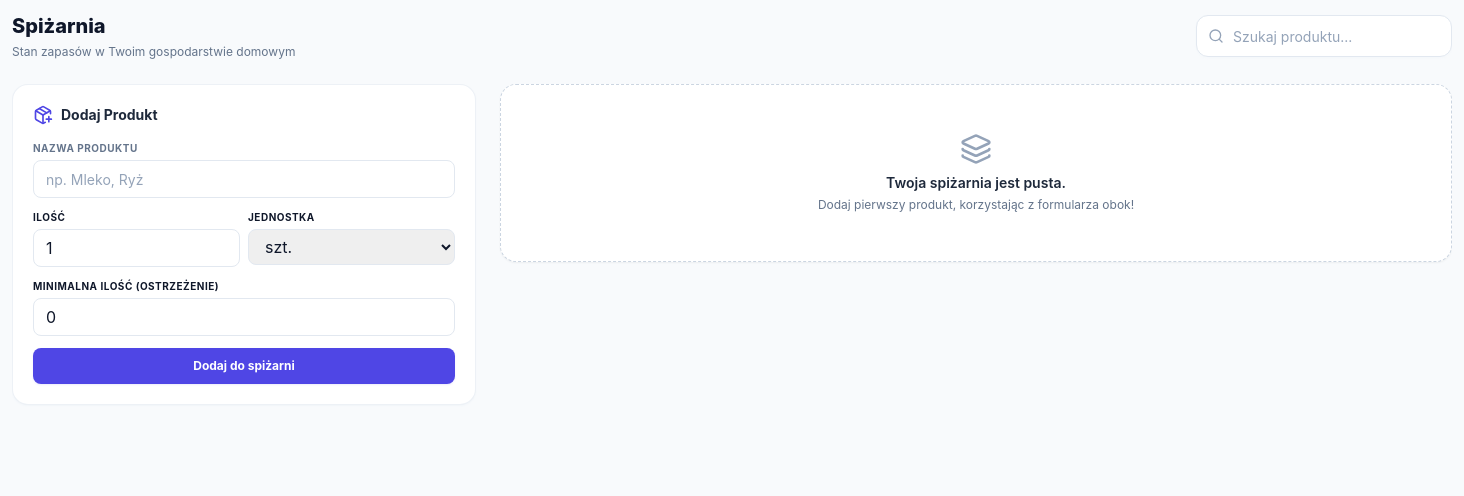
Test: PantryDashboard › handles addition error robustly inside try-catch-finally resetting loading
Type "Chleb" into the field with placeholder "np. Mleko, Ryż" at (244, 179), box [33,160,455,198]
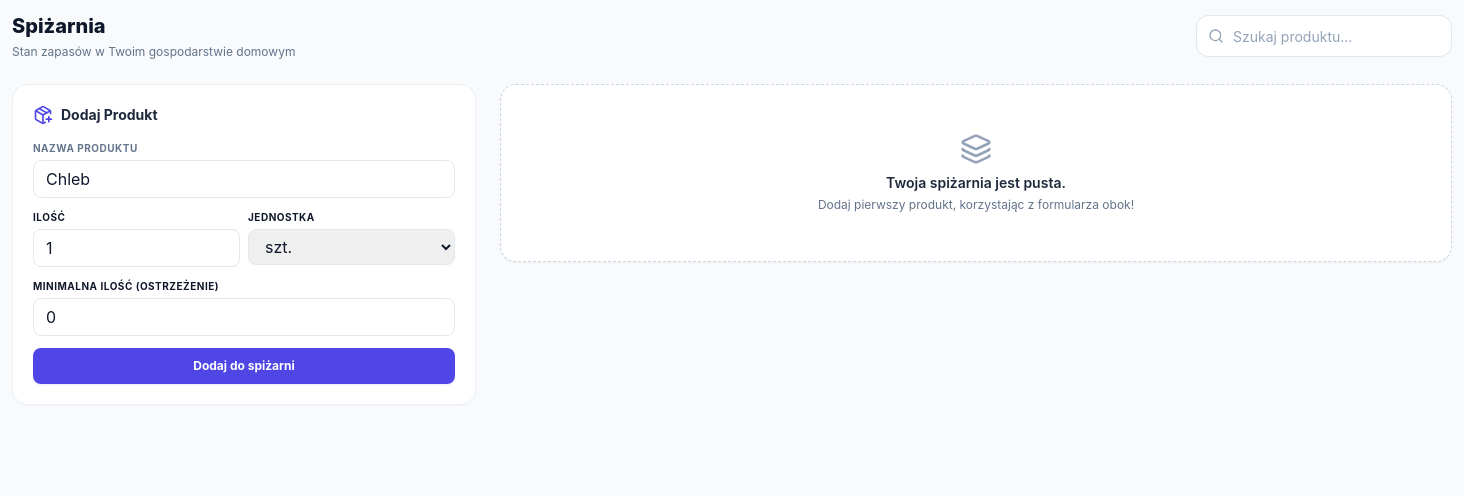
Click the button "Dodaj do spiżarni" at (244, 366), box [33,348,455,384]
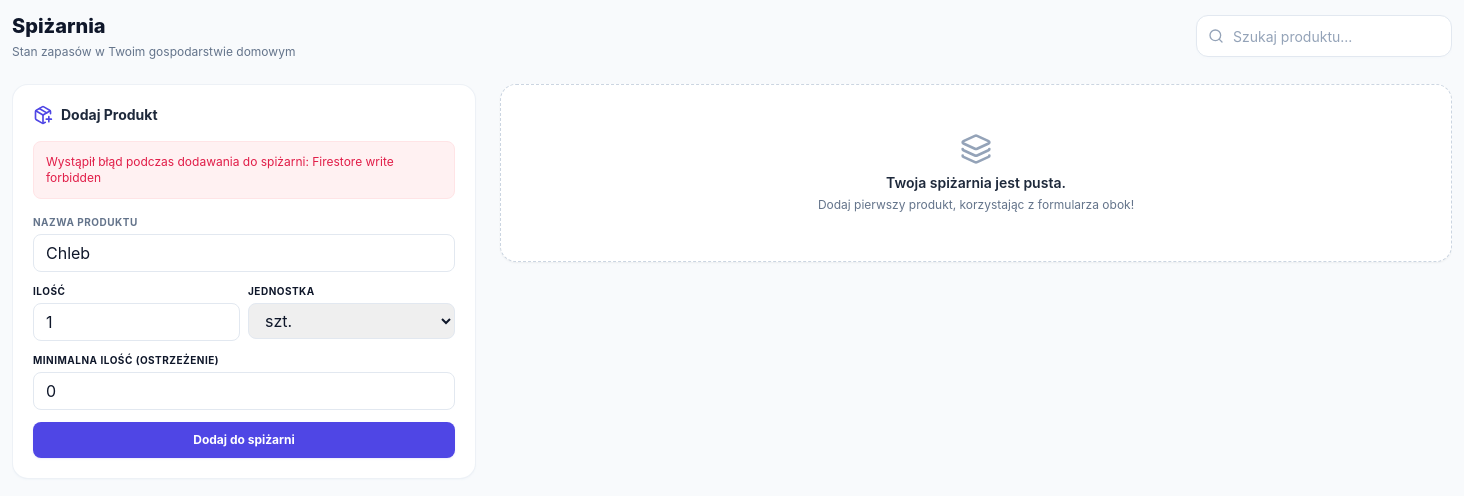
Check: the button "Dodaj do spiżarni" is enabled, box [33,422,455,458]
Check: the text "Wystąpił błąd podczas dodawania do spiżarni: Firestore write forbidden" is shown, box [33,141,455,199]
